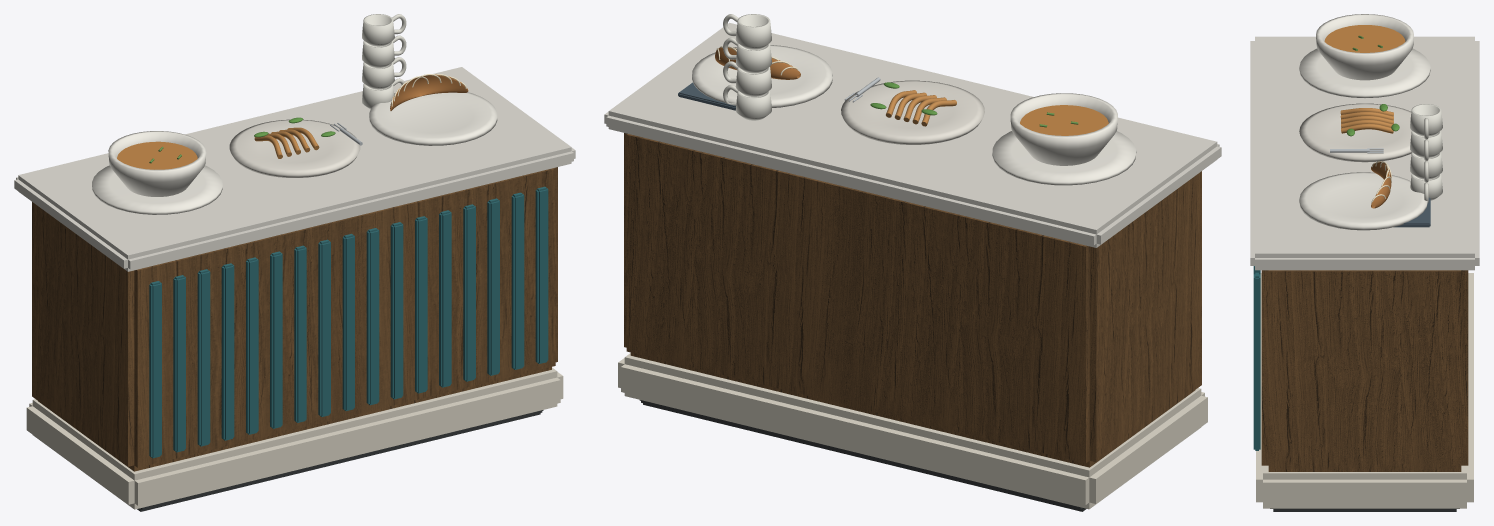
The model's file is collection_v29_restaurant_0.glb.
The picture shows the model from 3 angles, left to right: view 1: azimuth 30°, elevation 25°; view 2: azimuth 150°, elevation 25°; view 3: azimuth 270°, elevation 25°; orthographic projection. The views are drawn at different scales.
Visible parts, largest first — view 1: collection_v29_restaurant_0_CC0_Oak_veneer, collection_v29_restaurant_0_V29_petrol_enamel, collection_v29_restaurant_0_Honed_solid_surface, collection_v29_restaurant_0_V29_ivory_lacquer, collection_v29_restaurant_0_V24_service_porcelain, collection_v29_restaurant_0_V24_service_porcelain.001, collection_v29_restaurant_0_FY21_chalk_lacquer.006, collection_v29_restaurant_0_Anodised_graphite, collection_v29_restaurant_0_V24_roasted_soup, collection_v29_restaurant_0_V24_golden_crust.004, collection_v29_restaurant_0_Glazed_ceramic_0.018, collection_v29_restaurant_0_Laminated_pastry.013 (+2 smaller); view 2: collection_v29_restaurant_0_CC0_Oak_veneer, collection_v29_restaurant_0_Honed_solid_surface, collection_v29_restaurant_0_V29_ivory_lacquer, collection_v29_restaurant_0_V24_service_porcelain, collection_v29_restaurant_0_FY21_chalk_lacquer.006, collection_v29_restaurant_0_V24_service_porcelain.001, collection_v29_restaurant_0_Anodised_graphite, collection_v29_restaurant_0_V24_roasted_soup, collection_v29_restaurant_0_Glazed_ceramic_0.018, collection_v29_restaurant_0_Laminated_pastry.013, collection_v29_restaurant_0_Glazed_ceramic_0.017, collection_v29_restaurant_0_Glazed_ceramic_0.016 (+2 smaller); view 3: collection_v29_restaurant_0_CC0_Oak_veneer, collection_v29_restaurant_0_Honed_solid_surface, collection_v29_restaurant_0_V29_ivory_lacquer, collection_v29_restaurant_0_V24_service_porcelain, collection_v29_restaurant_0_V24_service_porcelain.001, collection_v29_restaurant_0_FY21_chalk_lacquer.006, collection_v29_restaurant_0_V24_roasted_soup, collection_v29_restaurant_0_V29_petrol_enamel, collection_v29_restaurant_0_Laminated_pastry.013, collection_v29_restaurant_0_Glazed_ceramic_0.018, collection_v29_restaurant_0_Anodised_graphite, collection_v29_restaurant_0_Glazed_ceramic_0.017 (+4 smaller).
Boxes of the visible parts, x1,y1,x2,y2 form: collection_v29_restaurant_0_CC0_Oak_veneer: (32, 167, 557, 471); collection_v29_restaurant_0_V29_petrol_enamel: (149, 186, 548, 458); collection_v29_restaurant_0_Honed_solid_surface: (14, 67, 575, 271); collection_v29_restaurant_0_V29_ivory_lacquer: (26, 367, 563, 509); collection_v29_restaurant_0_V24_service_porcelain: (92, 131, 222, 214); collection_v29_restaurant_0_V24_service_porcelain.001: (369, 92, 497, 145); collection_v29_restaurant_0_FY21_chalk_lacquer.006: (229, 119, 360, 177); collection_v29_restaurant_0_Anodised_graphite: (137, 410, 543, 511); collection_v29_restaurant_0_V24_roasted_soup: (117, 141, 197, 169); collection_v29_restaurant_0_V24_golden_crust.004: (390, 74, 468, 110); collection_v29_restaurant_0_Glazed_ceramic_0.018: (362, 14, 406, 46); collection_v29_restaurant_0_Laminated_pastry.013: (254, 127, 319, 158); collection_v29_restaurant_0_CC0_Oak_veneer: (624, 133, 1201, 467); collection_v29_restaurant_0_Honed_solid_surface: (604, 22, 1221, 247); collection_v29_restaurant_0_V29_ivory_lacquer: (618, 353, 1207, 509); collection_v29_restaurant_0_V24_service_porcelain: (992, 93, 1136, 185); collection_v29_restaurant_0_FY21_chalk_lacquer.006: (841, 80, 984, 144); collection_v29_restaurant_0_V24_service_porcelain.001: (692, 45, 832, 107); collection_v29_restaurant_0_Anodised_graphite: (639, 400, 1086, 511); collection_v29_restaurant_0_V24_roasted_soup: (1020, 105, 1108, 135); collection_v29_restaurant_0_Glazed_ceramic_0.018: (723, 14, 771, 49); collection_v29_restaurant_0_Laminated_pastry.013: (886, 90, 956, 126); collection_v29_restaurant_0_Glazed_ceramic_0.017: (723, 37, 771, 73); collection_v29_restaurant_0_Glazed_ceramic_0.016: (723, 61, 771, 96); collection_v29_restaurant_0_CC0_Oak_veneer: (1261, 270, 1468, 471); collection_v29_restaurant_0_Honed_solid_surface: (1250, 36, 1479, 270); collection_v29_restaurant_0_V29_ivory_lacquer: (1256, 273, 1473, 508); collection_v29_restaurant_0_V24_service_porcelain: (1299, 14, 1430, 97); collection_v29_restaurant_0_V24_service_porcelain.001: (1299, 172, 1427, 230); collection_v29_restaurant_0_FY21_chalk_lacquer.006: (1299, 103, 1411, 162); collection_v29_restaurant_0_V24_roasted_soup: (1324, 25, 1405, 52); collection_v29_restaurant_0_V29_petrol_enamel: (1253, 266, 1260, 450); collection_v29_restaurant_0_Laminated_pastry.013: (1340, 108, 1393, 133); collection_v29_restaurant_0_Glazed_ceramic_0.018: (1410, 104, 1442, 139); collection_v29_restaurant_0_Anodised_graphite: (1270, 508, 1459, 511); collection_v29_restaurant_0_Glazed_ceramic_0.017: (1410, 130, 1442, 160).
Size of the model in its own units: 1.87 by 1.43 by 0.82.
Materials: 20 (1 with a texture image).
